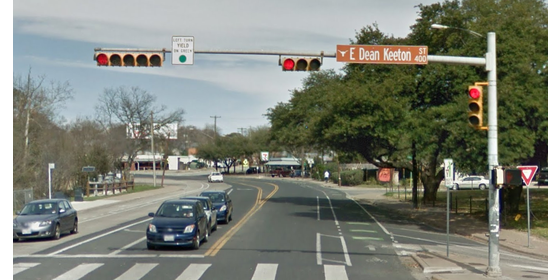left turn yield on green sign: (170, 35, 196, 67)
